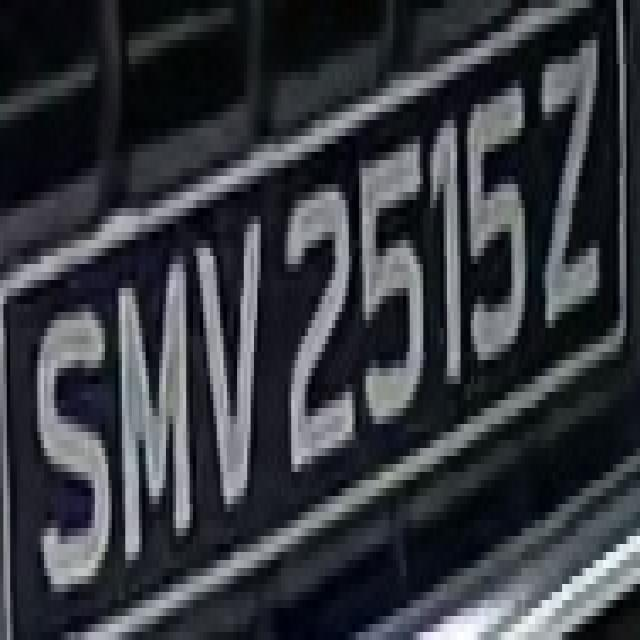1: (416, 88, 464, 392)
2: (271, 184, 355, 488)
5: (345, 136, 430, 416), (457, 72, 532, 376)
M: (108, 248, 200, 560)
S: (24, 280, 115, 616)
V: (196, 208, 268, 528)
Z: (535, 48, 610, 360)
